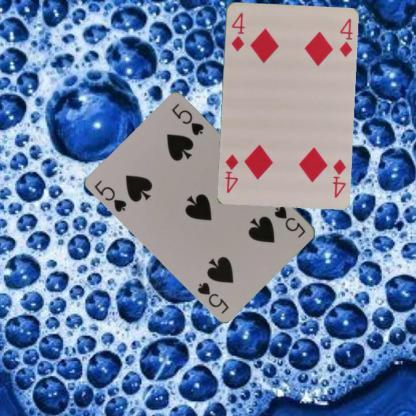4d: (228, 9, 246, 52), (330, 156, 347, 199)
5s: (92, 177, 128, 214), (272, 204, 308, 240)
